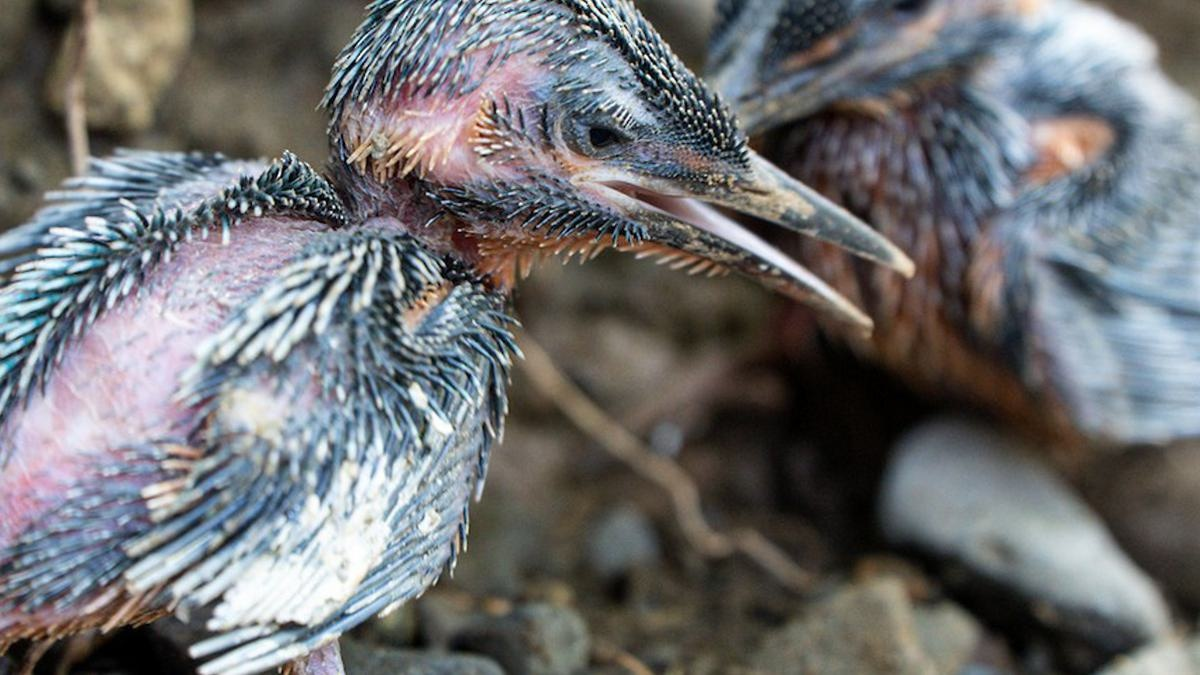kingfisher: (1, 19, 902, 675), (719, 2, 1200, 444)
